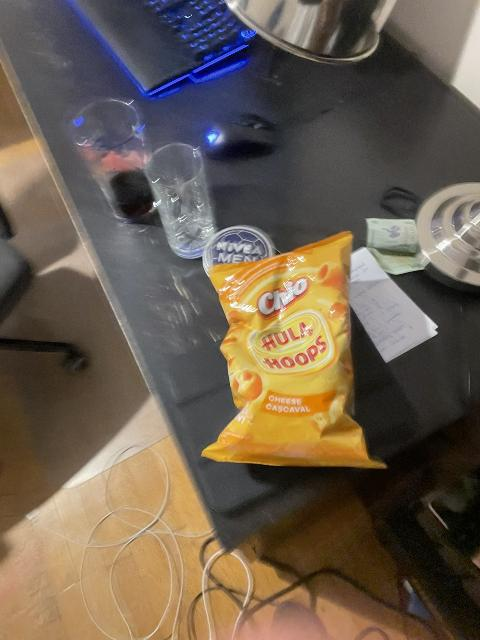Chio Hula Hoops Cheese 70g: (196, 234, 380, 464)
